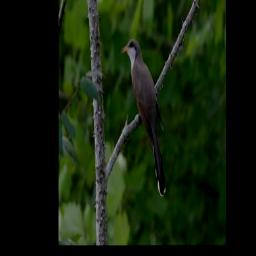Cuckoo: (120, 36, 167, 198)
